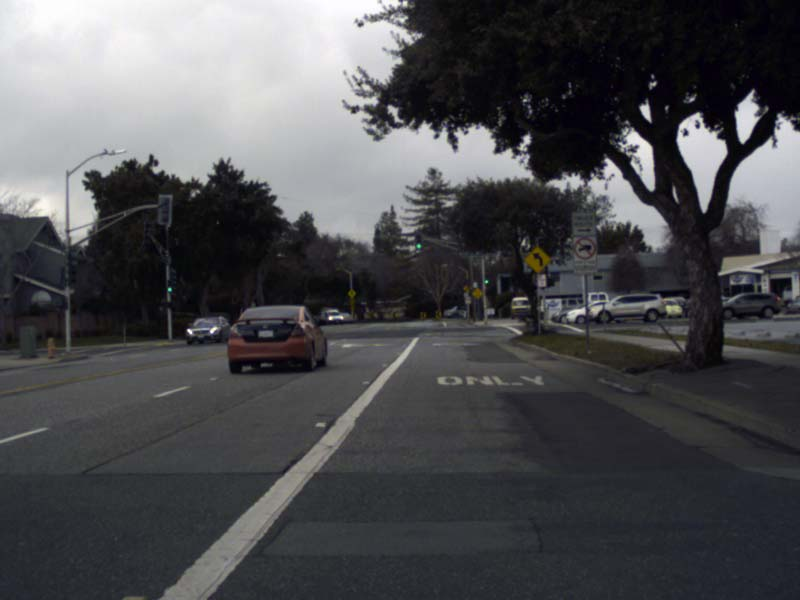Green: (483, 272, 489, 288), (415, 233, 421, 249), (167, 279, 173, 294)
